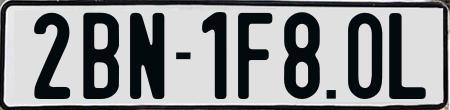0: (345, 11, 380, 101)
1: (201, 12, 226, 105)
2: (33, 10, 74, 96)
8: (281, 12, 318, 105)
B: (83, 12, 123, 101)
F: (236, 11, 272, 99)
L: (389, 13, 427, 104)
N: (127, 13, 167, 100)
